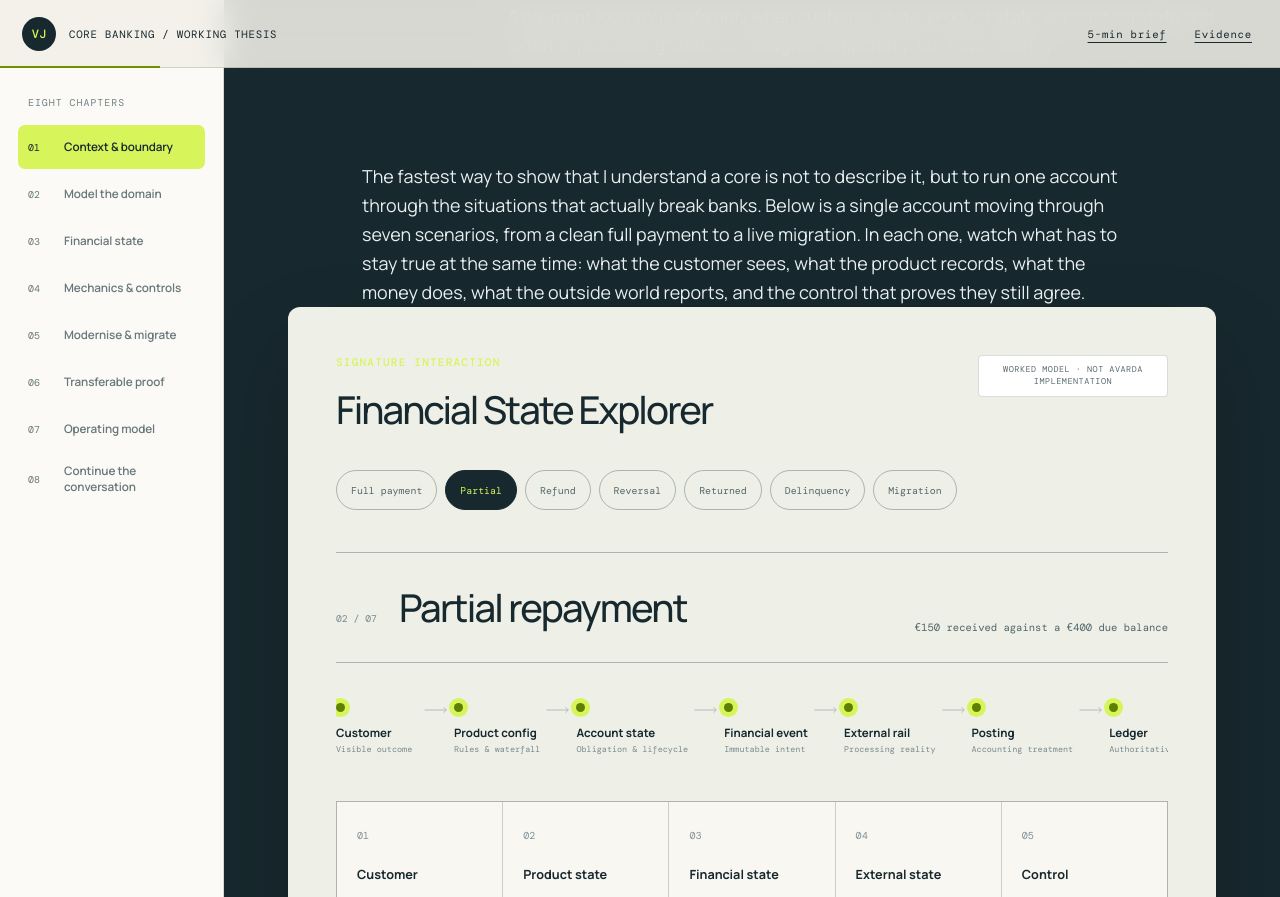
Avarda core-banking thesis › switches the financial-state explorer scenario
(page scrolled)
Step 1. Click the button "Refund" → (558, 490), box [525,470,591,510]
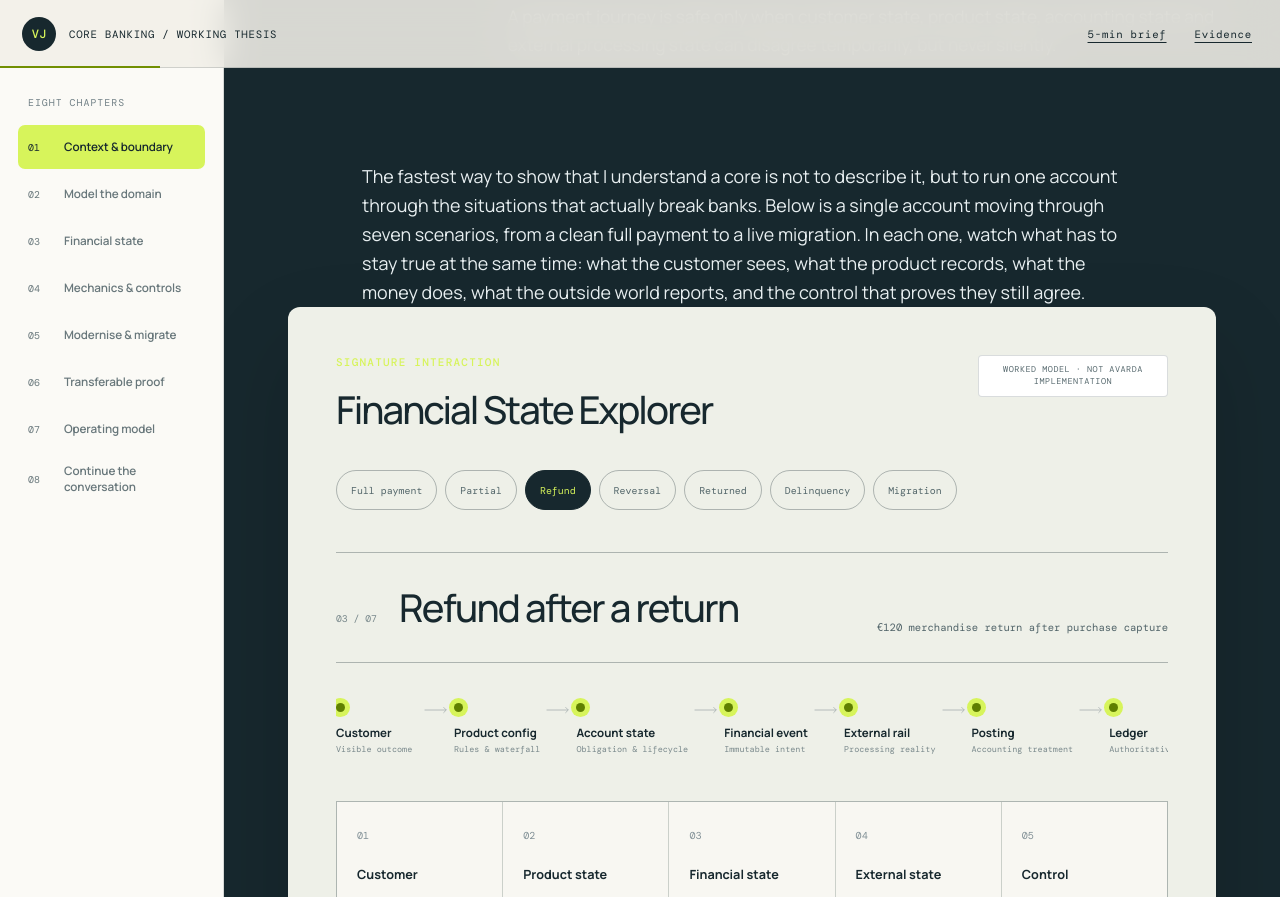
Expected: the heading "Refund after a return" is shown, [399,581,738,634]
Expected: the text "€120 merchandise return after purchase capture" is shown, [877,621,1168,634]
